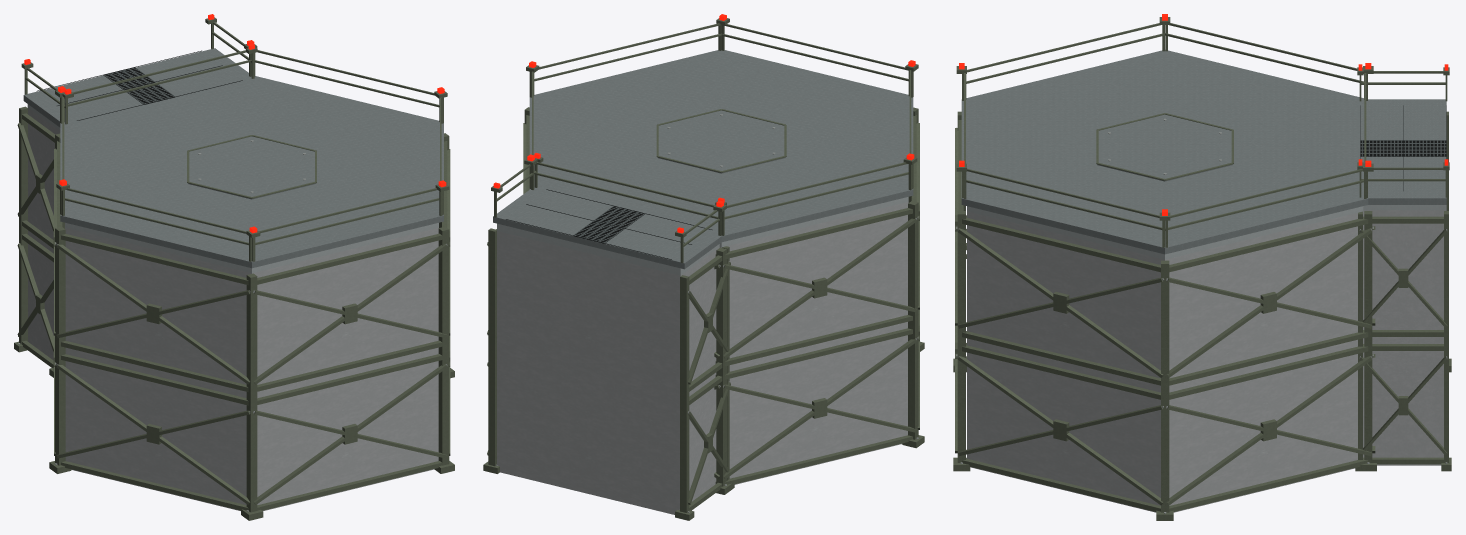
The model's file is terminal.glb.
3 renders of one model, left to right at view 1: azimuth 30°, elevation 25°; view 2: azimuth 150°, elevation 25°; view 3: azimuth 270°, elevation 25°, orthographic. The views are drawn at different scales.
Visible parts, largest first — view 1: terminal-lod0-roof0, terminal-lod0-floor0, terminal-lod0-base0, terminal-lod0-roof0-link-n, terminal-lod0-floor0-link-n, terminal-lod0-base0-link-n; view 2: terminal-lod0-roof0, terminal-lod0-floor0-link-n, terminal-lod0-base0-link-n, terminal-lod0-floor0, terminal-lod0-base0, terminal-lod0-roof0-link-n; view 3: terminal-lod0-roof0, terminal-lod0-floor0, terminal-lod0-base0, terminal-lod0-floor0-link-n, terminal-lod0-base0-link-n, terminal-lod0-roof0-link-n.
Part boxes in pixels (x1=…): terminal-lod0-roof0: x1=55, y1=40, x2=449, y2=273; terminal-lod0-floor0: x1=53, y1=133, x2=450, y2=397; terminal-lod0-base0: x1=49, y1=335, x2=454, y2=520; terminal-lod0-roof0-link-n: x1=21, y1=14, x2=257, y2=130; terminal-lod0-floor0-link-n: x1=17, y1=106, x2=64, y2=248; terminal-lod0-base0-link-n: x1=14, y1=229, x2=53, y2=367; terminal-lod0-roof0: x1=524, y1=14, x2=918, y2=247; terminal-lod0-floor0-link-n: x1=487, y1=228, x2=730, y2=398; terminal-lod0-base0-link-n: x1=483, y1=350, x2=734, y2=520; terminal-lod0-floor0: x1=523, y1=107, x2=919, y2=372; terminal-lod0-base0: x1=714, y1=309, x2=924, y2=494; terminal-lod0-roof0-link-n: x1=491, y1=153, x2=726, y2=275; terminal-lod0-roof0: x1=956, y1=14, x2=1373, y2=259; terminal-lod0-floor0: x1=955, y1=111, x2=1375, y2=391; terminal-lod0-base0: x1=953, y1=243, x2=1376, y2=520; terminal-lod0-floor0-link-n: x1=1358, y1=111, x2=1448, y2=341; terminal-lod0-base0-link-n: x1=1355, y1=338, x2=1451, y2=471; terminal-lod0-roof0-link-n: x1=1357, y1=64, x2=1449, y2=210.
Size of what is drawn, in the model's own units: 62.24 by 43.07 by 63.77.
8 materials, 8 textured.
